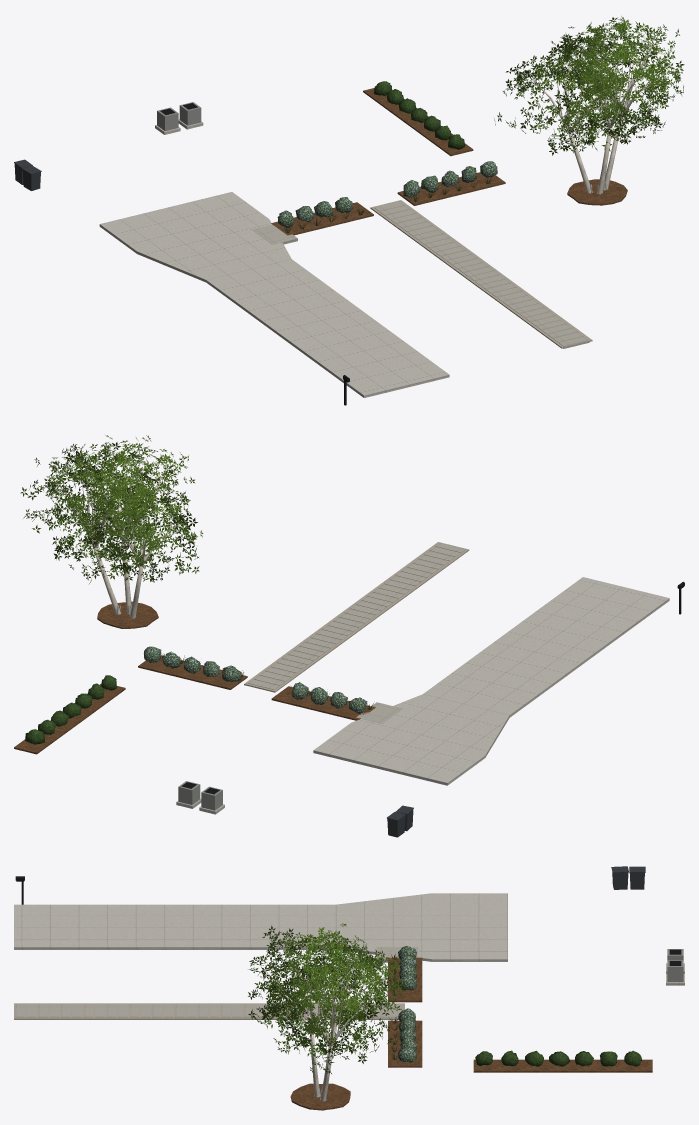
Rendered from al-hassan-house-lot.glb.
3 renders of one model, top to bottom at view 1: azimuth 30°, elevation 25°; view 2: azimuth 150°, elevation 25°; view 3: azimuth 270°, elevation 25°, orthographic. The views are drawn at different scales.
Parts seen in each view (by area): view 1: Lot_Hardscape, Tree_Birch_1, Lot_Beds, Lot_Props; view 2: Lot_Hardscape, Tree_Birch_1, Lot_Beds, Lot_Props; view 3: Lot_Hardscape, Tree_Birch_1, Lot_Beds, Lot_Props.
Part boxes in pixels (x1,y1,x2,y2): Lot_Hardscape: (99,192,592,397); Tree_Birch_1: (494,16,684,194); Lot_Beds: (271,81,627,235); Lot_Props: (14,102,349,405); Lot_Hardscape: (244,542,669,785); Tree_Birch_1: (20,435,203,618); Lot_Beds: (14,601,375,754); Lot_Props: (176,581,684,837); Lot_Hardscape: (14,893,507,1019); Tree_Birch_1: (248,923,407,1110); Lot_Beds: (290,946,652,1110); Lot_Props: (15,866,684,985).
Bounding box in the file's own units: 31.81 × 10.52 × 35.24.
Materials: 14 (9 with a texture image).
